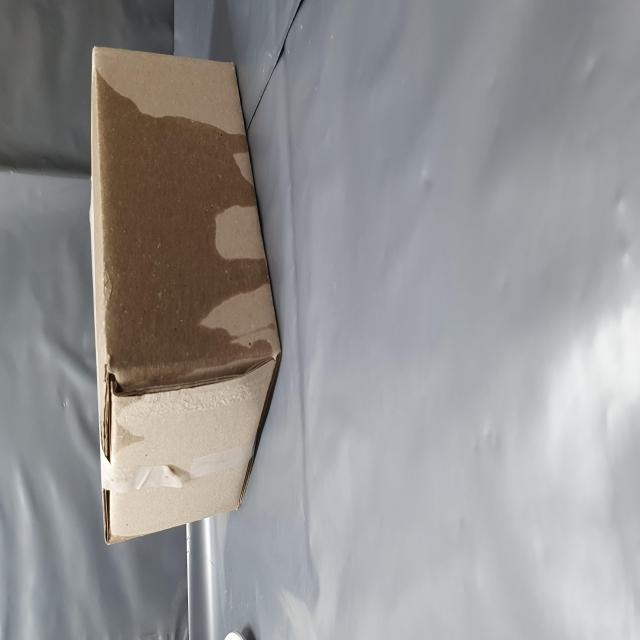wet: (129, 168, 327, 491)
